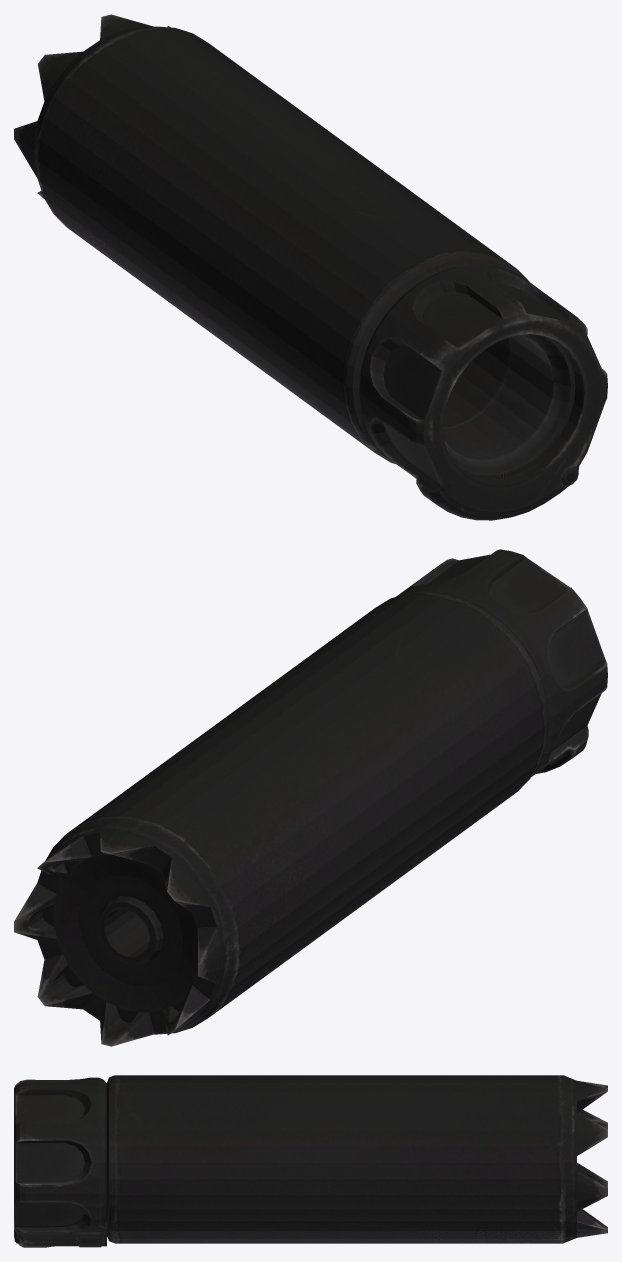
3 renders of one model, top to bottom at view 1: azimuth 30°, elevation 25°; view 2: azimuth 150°, elevation 25°; view 3: azimuth 270°, elevation 25°, orthographic. The views are drawn at different scales.
Visible parts, largest first — view 1: TW_55d6190f4bdc2d87028b4567_PZ_Import; view 2: TW_55d6190f4bdc2d87028b4567_PZ_Import; view 3: TW_55d6190f4bdc2d87028b4567_PZ_Import.
Part boxes in pixels (bbox=[...]): TW_55d6190f4bdc2d87028b4567_PZ_Import: bbox=[14, 14, 607, 520]; TW_55d6190f4bdc2d87028b4567_PZ_Import: bbox=[14, 549, 607, 1046]; TW_55d6190f4bdc2d87028b4567_PZ_Import: bbox=[14, 1075, 607, 1247].
Size of the model in its own units: 0.022 by 0.0776 by 0.0225.
Materials: 1 (1 with a texture image).
